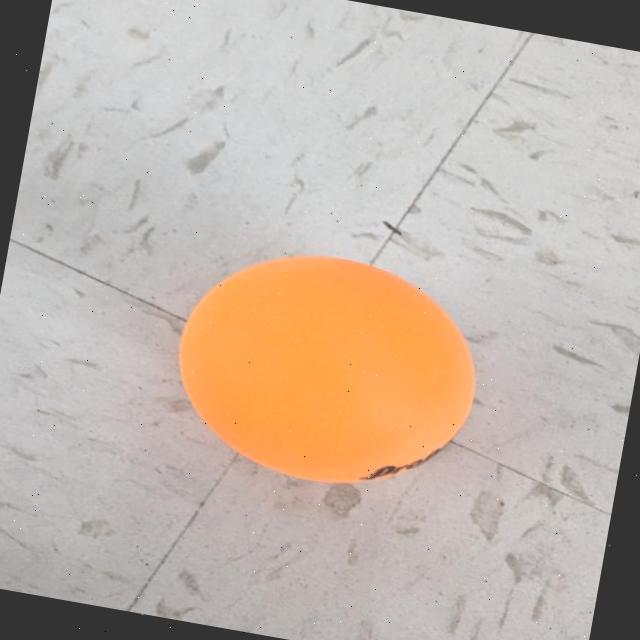ping-pong-ball: (144, 222, 500, 509)
